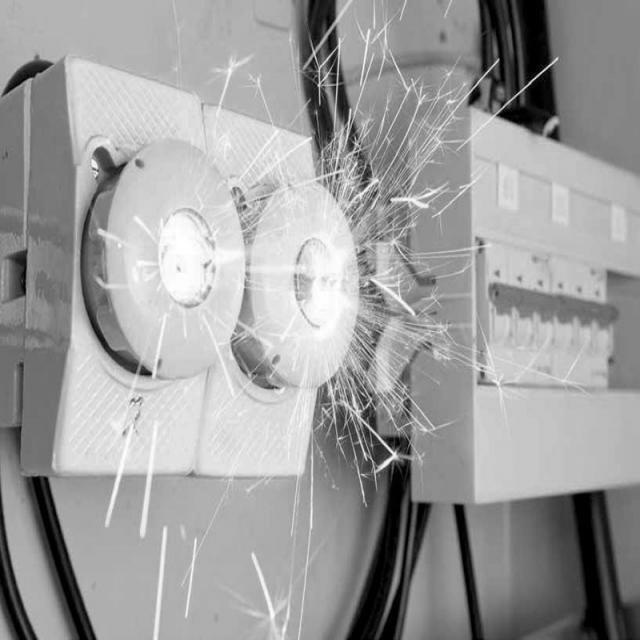Fire: (287, 180, 418, 377)
